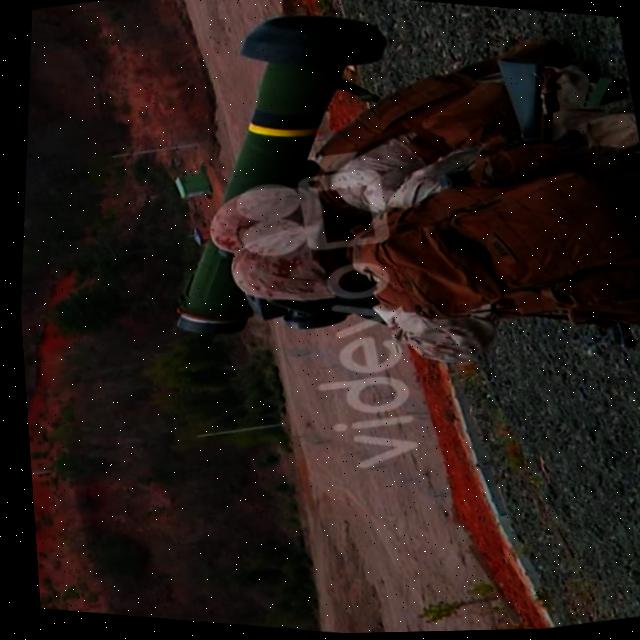rocket: (99, 0, 459, 356)
